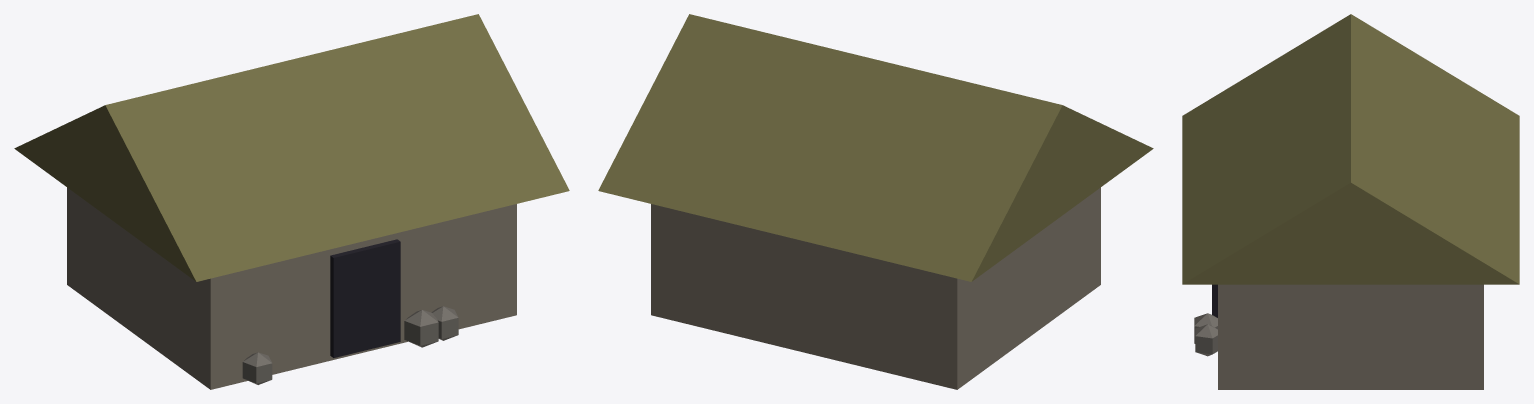
The model's file is s2_first_hut.glb.
3 renders of one model, left to right at view 1: azimuth 30°, elevation 25°; view 2: azimuth 150°, elevation 25°; view 3: azimuth 270°, elevation 25°, orthographic. The views are drawn at different scales.
Parts seen in each view (by area): view 1: s2_first_hut; view 2: s2_first_hut; view 3: s2_first_hut.
Part boxes in pixels (x1,y1,x2,y2): s2_first_hut: [14, 14, 569, 389]; s2_first_hut: [598, 14, 1153, 389]; s2_first_hut: [1182, 14, 1519, 389].
Bounding box in the file's own units: 3.9 × 2.44 × 3.3.
